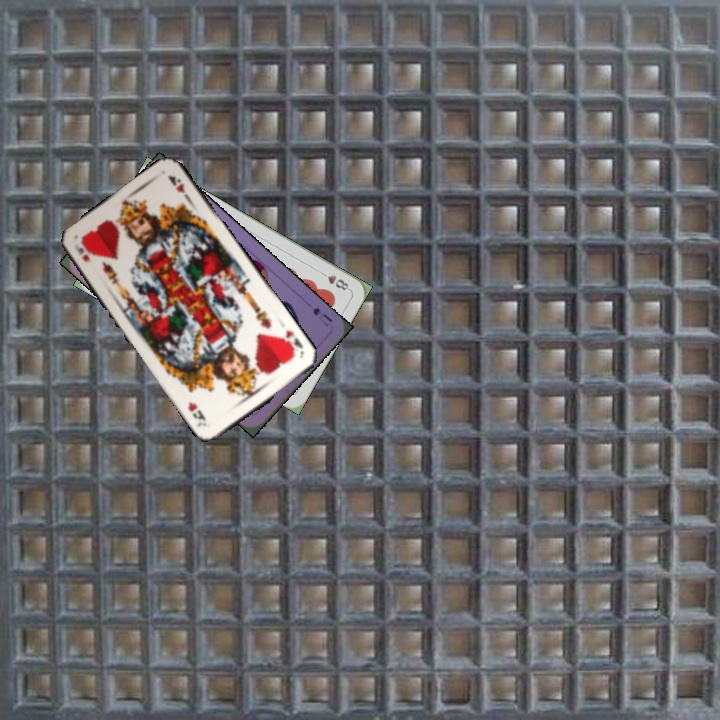H8: (315, 267, 352, 293)
HK: (279, 326, 307, 359), (70, 241, 93, 264)
SU: (308, 304, 335, 329)
